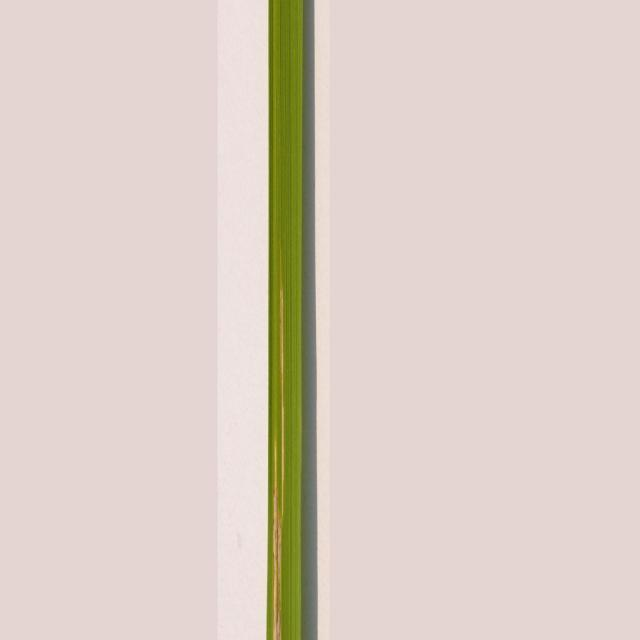leaf blight: (264, 289, 295, 640)
